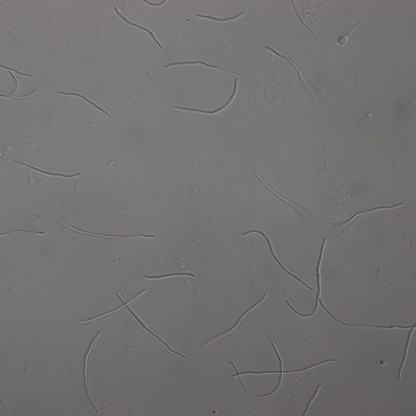Sensitive: (284, 238, 410, 331), (78, 286, 185, 358), (229, 342, 337, 398), (163, 60, 242, 115), (242, 229, 312, 289), (47, 204, 155, 241), (202, 294, 265, 345), (292, 1, 359, 48), (266, 45, 317, 103), (253, 172, 309, 218), (115, 7, 161, 46), (80, 329, 99, 413), (336, 203, 402, 227), (11, 158, 81, 179), (59, 90, 111, 118), (399, 323, 416, 375), (196, 9, 246, 24), (144, 268, 195, 281)
